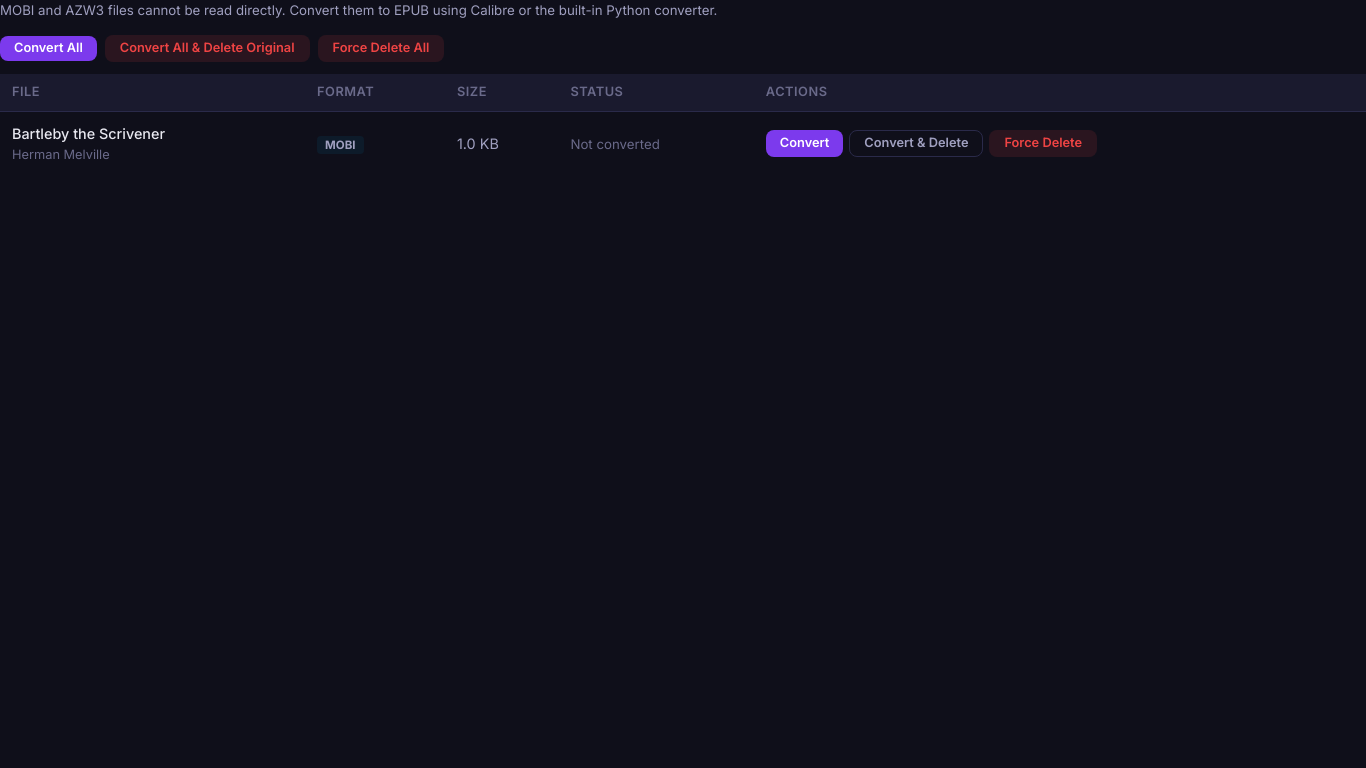
Test case: UnsupportedFilesPanel force-delete confirmation is a dialog › closes on a backdrop click, the way it always did
Expected: the text "Bartleby the Scrivener" is shown, [12,124,165,142]
Click the button "Force Delete".
click(1043, 143)  # box [990,130,1097,157]
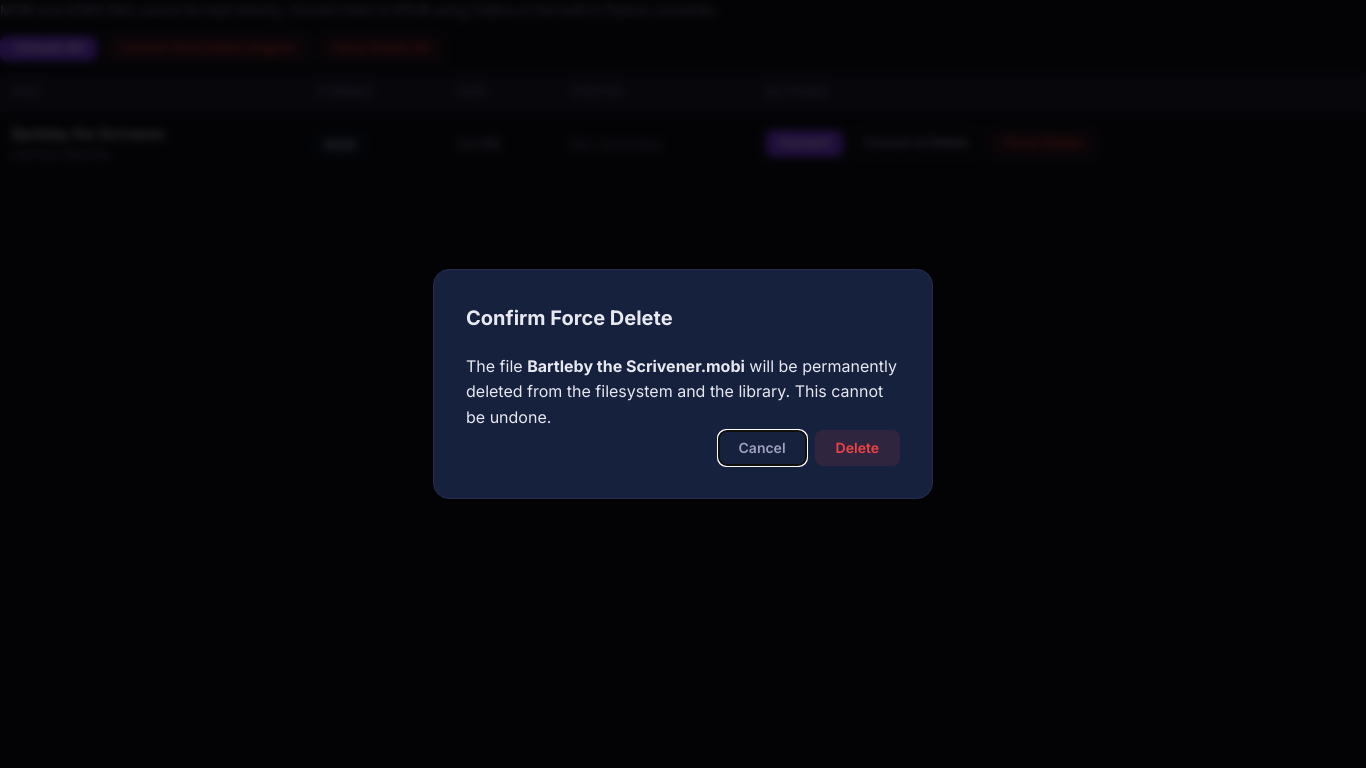
Result: the dialog is shown at [433,269,933,499]
Click the element with class "modal-overlay".
click(82, 384)  # box [0,0,1365,767]
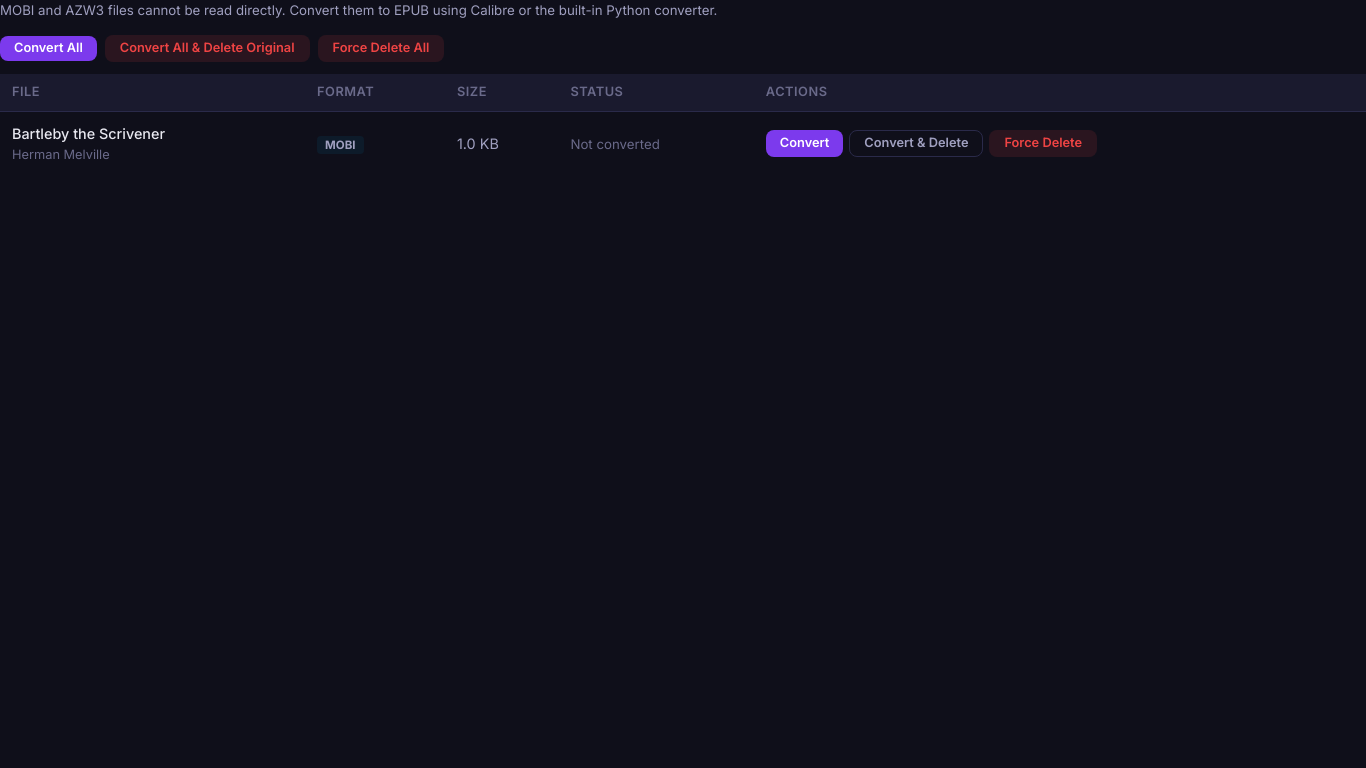
Result: the dialog is gone
